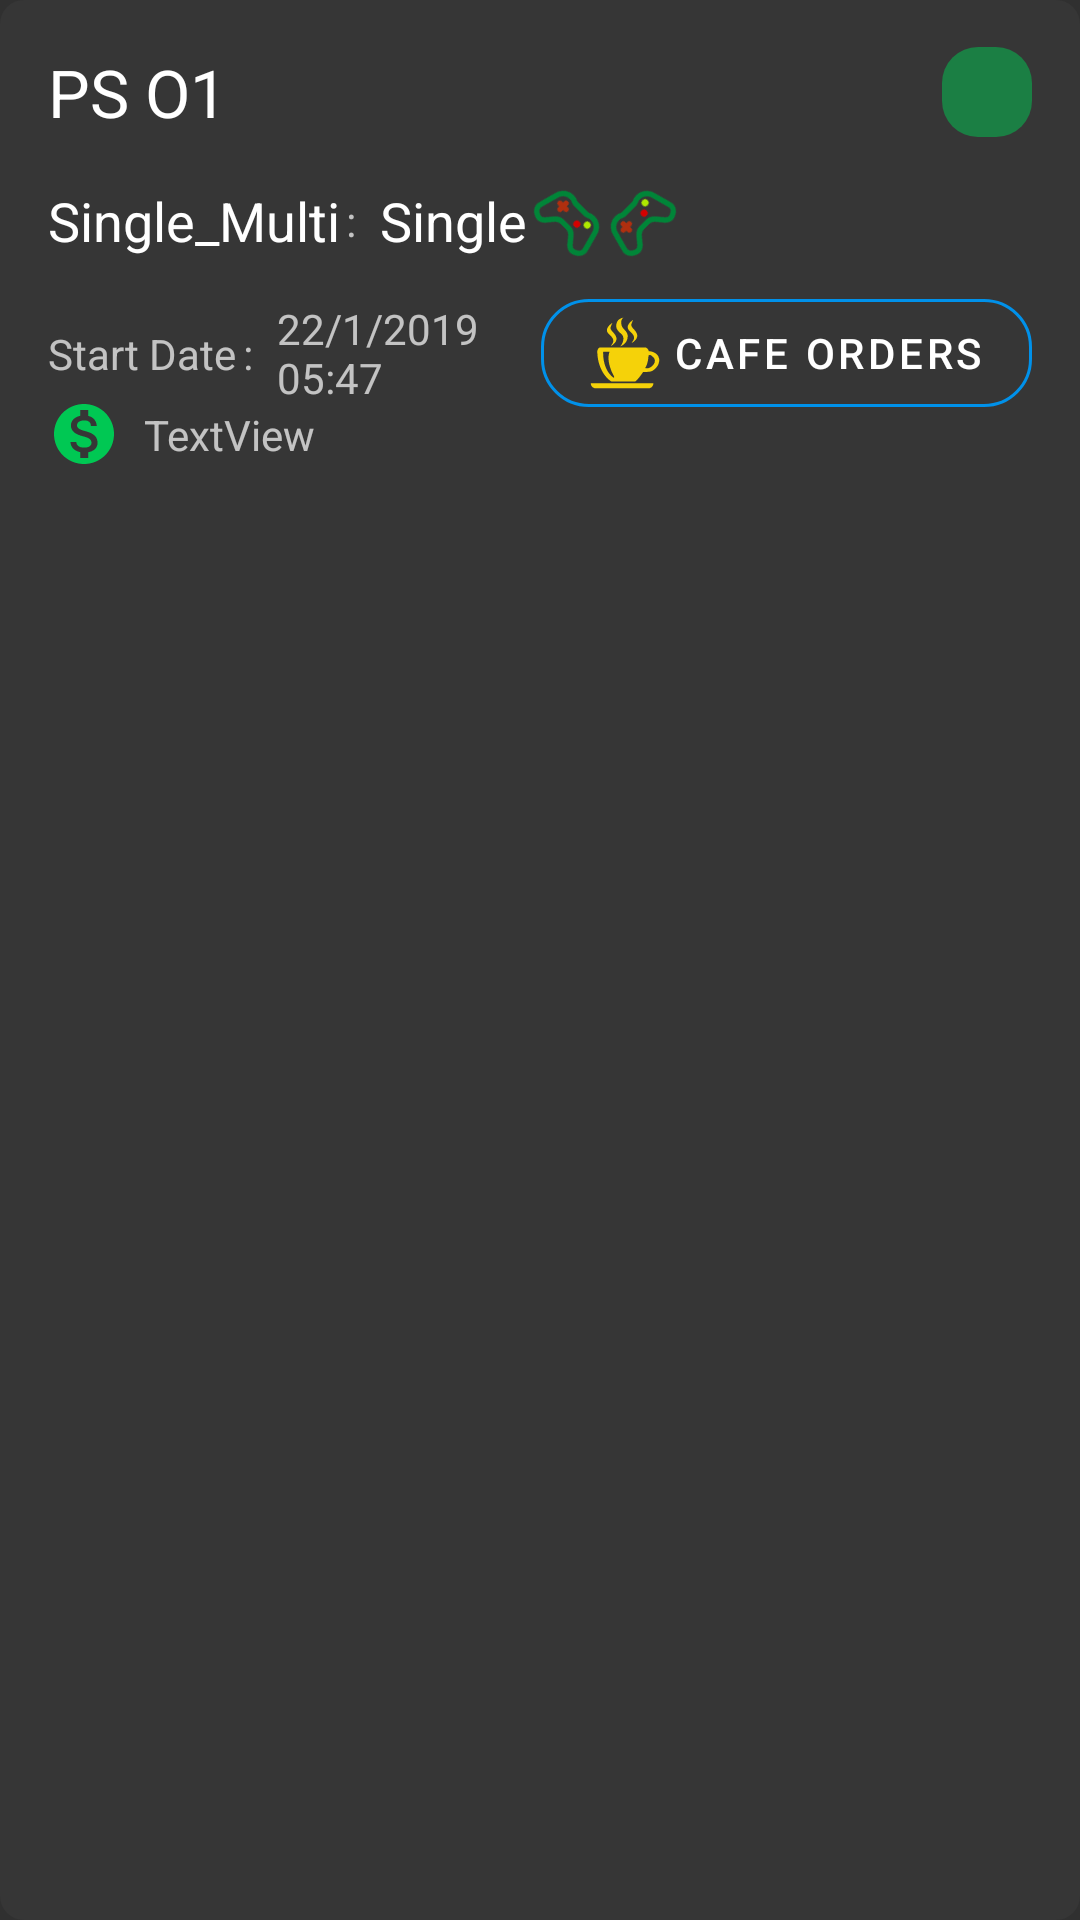

Where to tap for icons on this 1080w x 1920h app screen, as (x,y):
money: (84,434)
